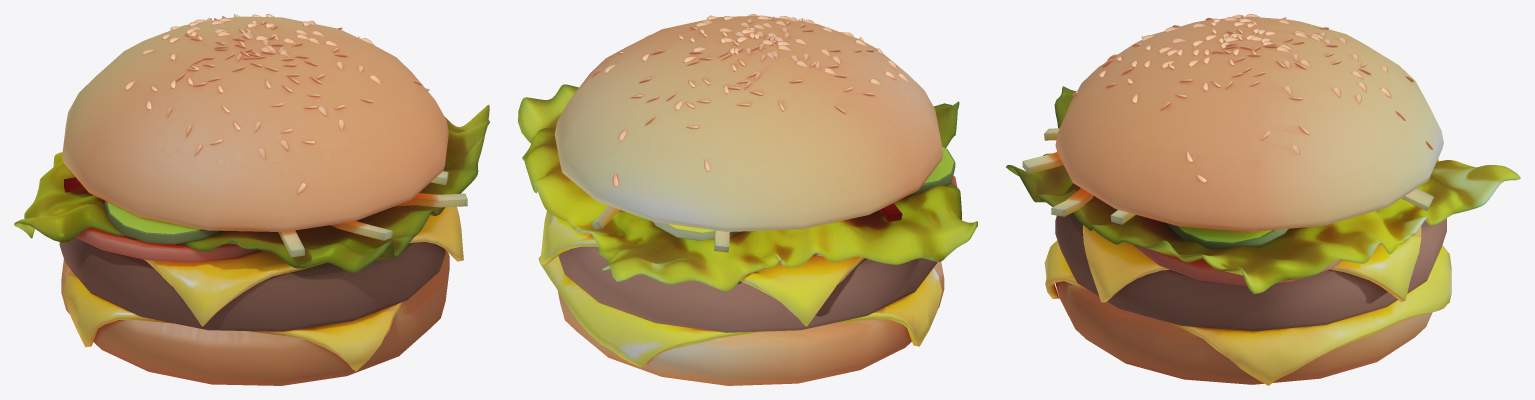
3 renders of one model, left to right at view 1: azimuth 30°, elevation 25°; view 2: azimuth 150°, elevation 25°; view 3: azimuth 270°, elevation 25°, orthographic.
Visible parts, largest first — view 1: bun_top_4, burger_6, bun_bottom_5, lettuce_15, cheez_7, cheez.001_8, seeds_0, tomato 1_12, onion 7_18, pickle 5_17; view 2: bun_top_4, lettuce_15, burger_6, bun_bottom_5, cheez.001_8, cheez_7, seeds_0, onion 7_18, pickle 5_17, pickle 1_9; view 3: bun_top_4, lettuce_15, burger_6, bun_bottom_5, cheez.001_8, cheez_7, seeds_0, onion 7_18, pickle 2_10, tomato 3_14.
Boxes of the visible parts, x1,y1,x2,y2 form: bun_top_4: (62,16,448,231); burger_6: (59,237,445,331); bun_bottom_5: (61,251,449,385); lettuce_15: (14,104,489,272); cheez_7: (143,206,463,326); cheez.001_8: (63,269,403,371); seeds_0: (125,14,429,194); tomato 1_12: (75,227,261,262); onion 7_18: (64,171,467,257); pickle 5_17: (104,200,222,244); bun_top_4: (554,15,943,231); lettuce_15: (518,84,977,290); burger_6: (558,246,937,332); bun_bottom_5: (557,261,944,385); cheez.001_8: (538,256,941,367); cheez_7: (539,211,864,326); seeds_0: (592,14,909,186); onion 7_18: (591,203,902,252); pickle 5_17: (910,146,955,195); pickle 1_9: (652,221,743,240); bun_top_4: (1055,16,1443,231); lettuce_15: (1006,86,1520,293); burger_6: (1055,213,1446,331); bun_bottom_5: (1055,281,1432,384); cheez.001_8: (1044,240,1451,385); cheez_7: (1083,225,1421,302); seeds_0: (1072,14,1433,182); onion 7_18: (1022,128,1433,224); pickle 2_10: (1167,223,1288,248); tomato 3_14: (1133,245,1342,285).
Bounding box in the file's own units: 0.828 × 0.4709 × 0.8016.
21 materials, 21 textured.
